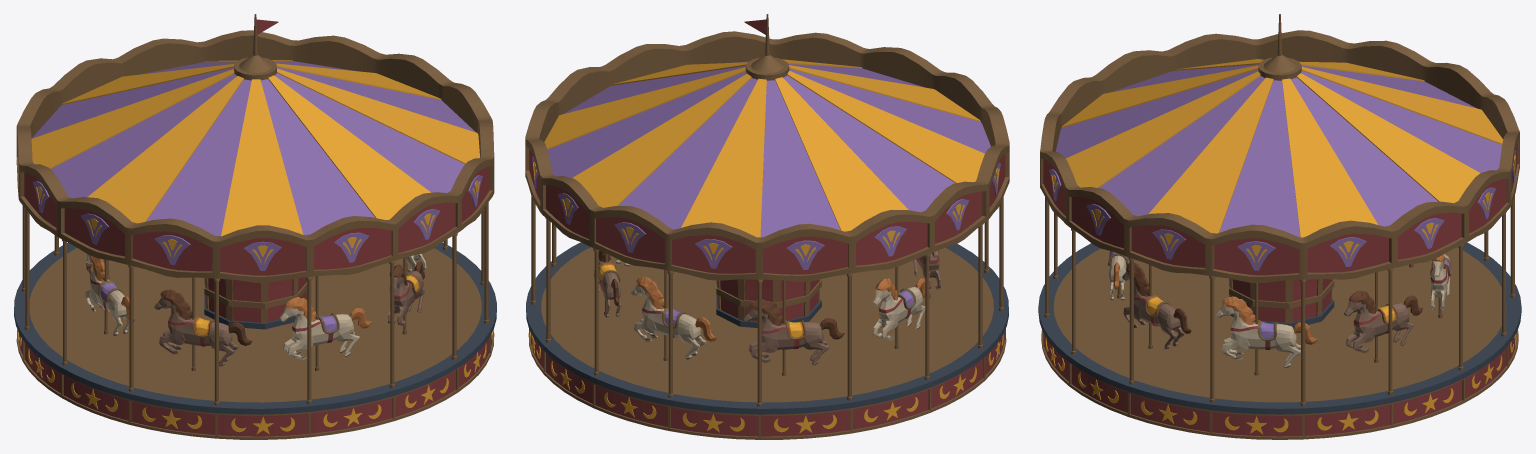
File: SM_Props_Park_03_Сarousel_01.fbx
The picture shows the model from 3 angles, left to right: view 1: azimuth 30°, elevation 25°; view 2: azimuth 150°, elevation 25°; view 3: azimuth 270°, elevation 25°; orthographic projection.
Visible parts, largest first — view 1: SM_Props_Park_03_Сarousel_01; view 2: SM_Props_Park_03_Сarousel_01; view 3: SM_Props_Park_03_Сarousel_01.
Part boxes in pixels (x1,y1,x2,y2): SM_Props_Park_03_Сarousel_01: [14, 14, 496, 439]; SM_Props_Park_03_Сarousel_01: [525, 14, 1009, 439]; SM_Props_Park_03_Сarousel_01: [1038, 14, 1521, 439].
Bounding box in the file's own units: 8.09 × 6 × 8.09.
